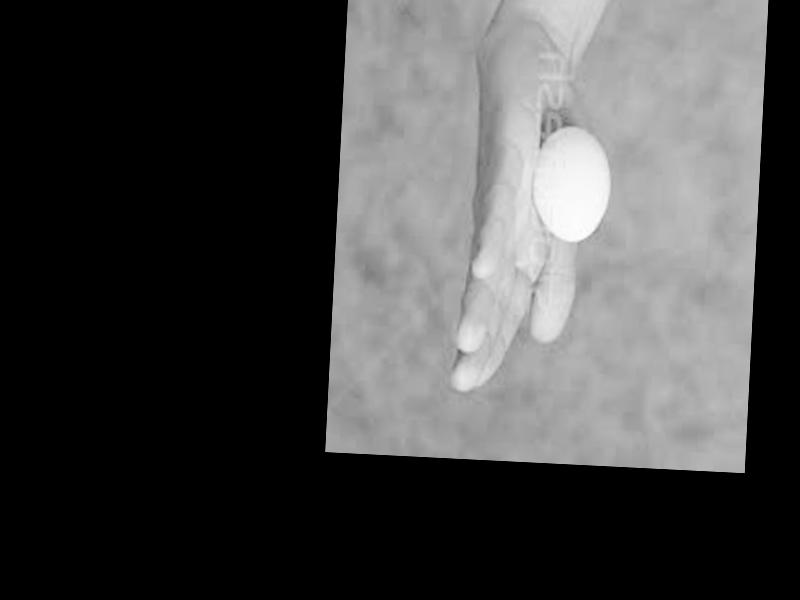Eggs: (530, 124, 615, 243)
